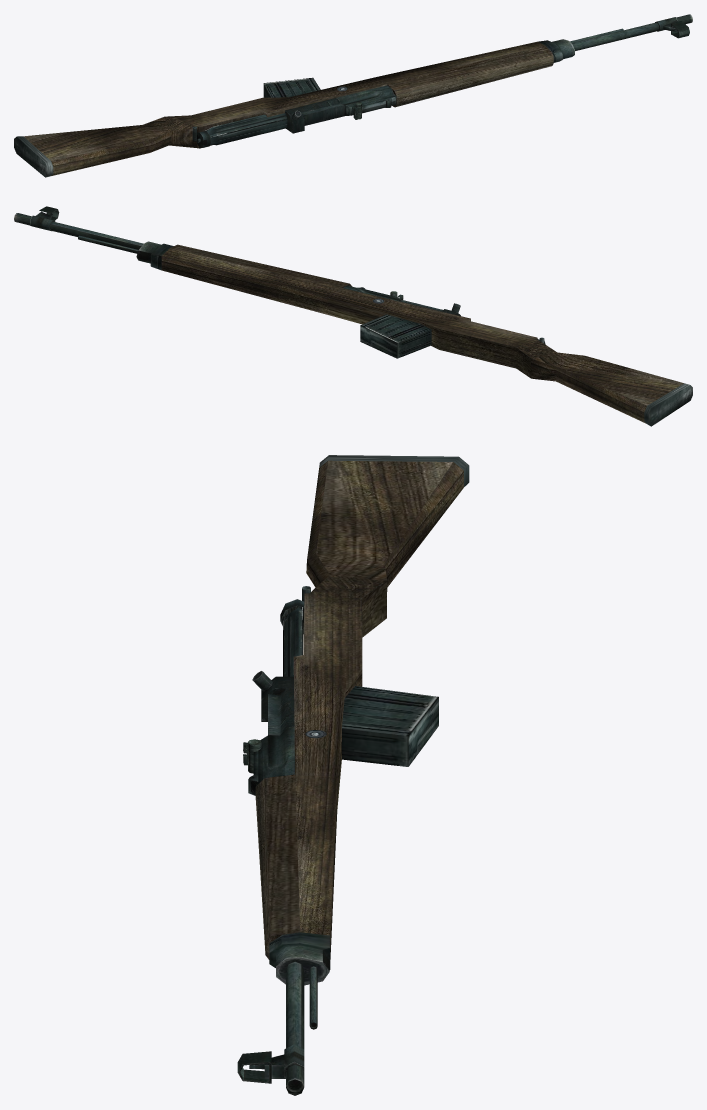
File: weapon_g43.glb
3 views of the same model, one above another, from view 1: azimuth 30°, elevation 25°; view 2: azimuth 150°, elevation 25°; view 3: azimuth 270°, elevation 25° (orthographic). The views are drawn at different scales.
Bounding box in the file's own units: 48.91 × 1.81 × 7.7.
1 material, 1 textured.
